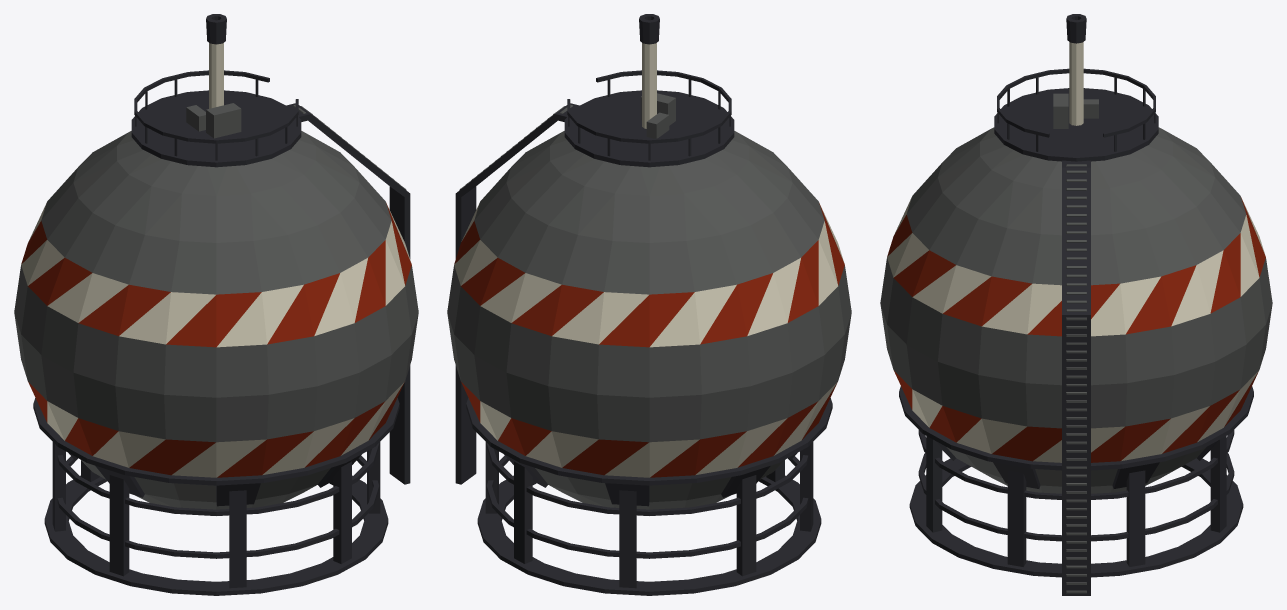
File: LPWarPack_SphereTank.fbx
3 renders of one model, left to right at view 1: azimuth 30°, elevation 25°; view 2: azimuth 150°, elevation 25°; view 3: azimuth 270°, elevation 25°, orthographic. The views are drawn at different scales.
Visible parts, largest first — view 1: SphereTank; view 2: SphereTank; view 3: SphereTank.
Part boxes in pixels (<box>): SphereTank: <box>14,14,418,595</box>; SphereTank: <box>447,14,851,595</box>; SphereTank: <box>880,14,1272,595</box>.
Size of the model in its own units: 732 by 975 by 708.
